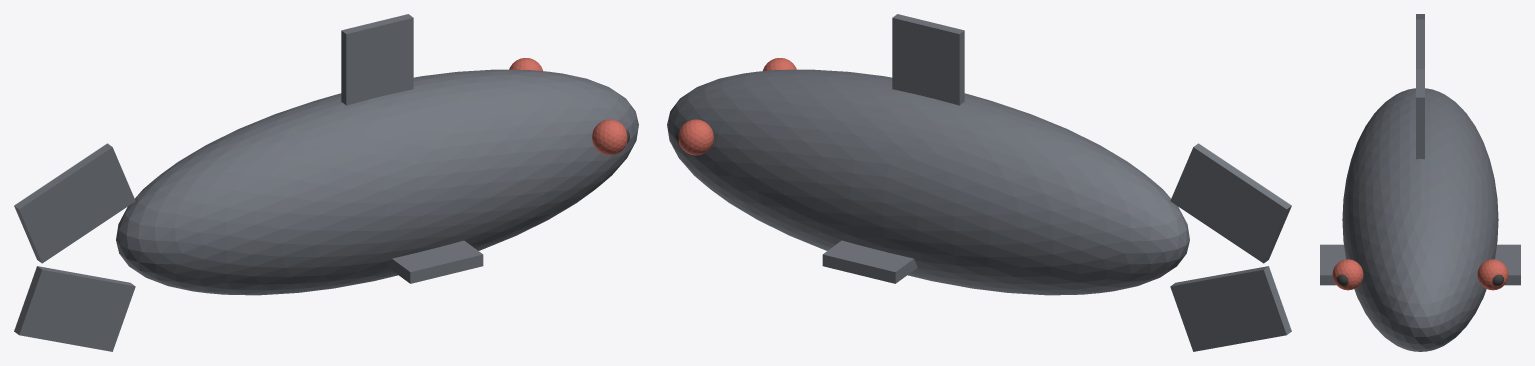
Rendered from predator.glb.
The picture shows the model from 3 angles, left to right: view 1: azimuth 30°, elevation 25°; view 2: azimuth 150°, elevation 25°; view 3: azimuth 270°, elevation 25°; orthographic projection. The views are drawn at different scales.
Parts seen in each view (by area): view 1: world; view 2: world; view 3: world.
Boxes of the visible parts, box(x1,y1,x2,y2) form: world: box(14, 14, 638, 351); world: box(667, 14, 1291, 351); world: box(1320, 14, 1520, 351).
Size of the model in its own units: 5.52 by 2.22 by 1.8.
